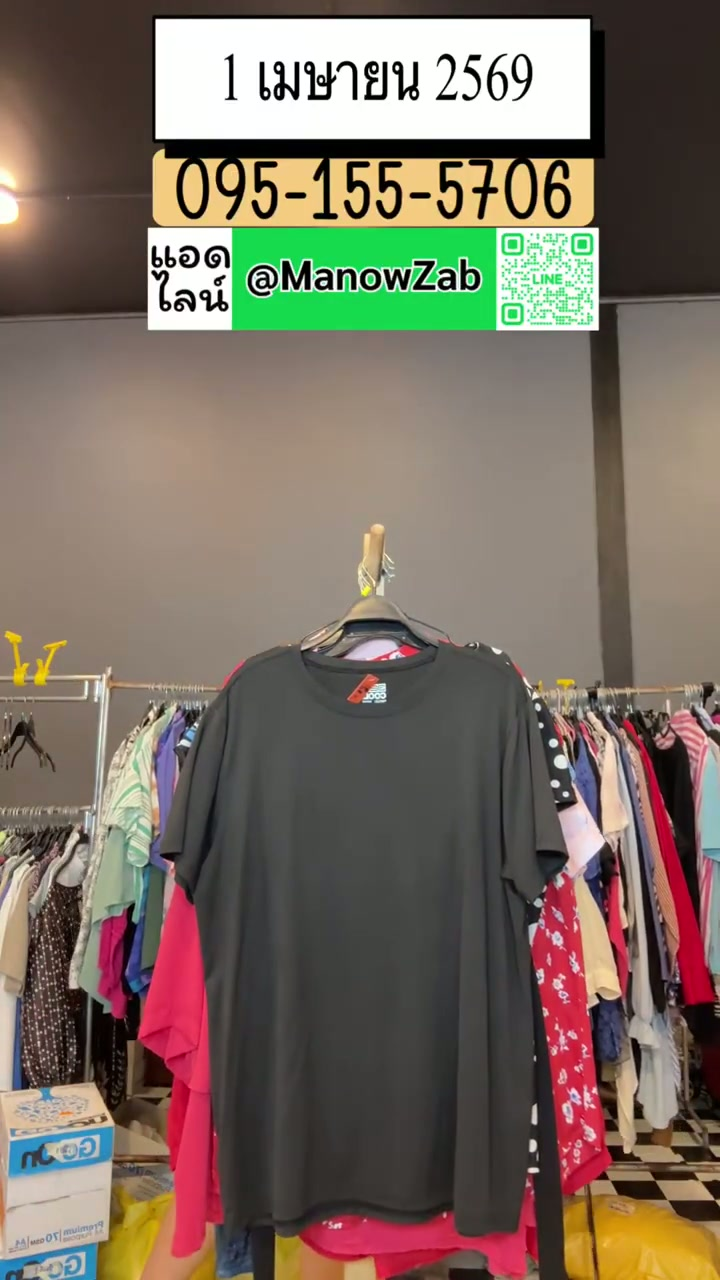display_shirt: (165, 643, 564, 1235)
